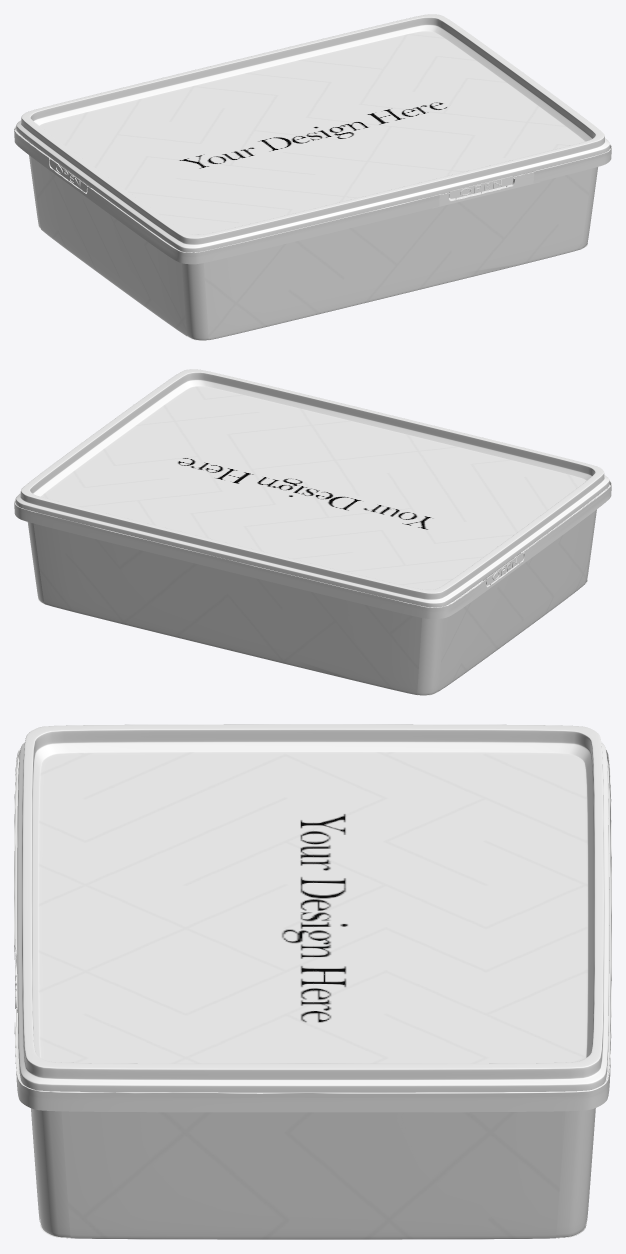
3 views of the same model, one above another, from view 1: azimuth 30°, elevation 25°; view 2: azimuth 150°, elevation 25°; view 3: azimuth 270°, elevation 25° (orthographic). The views are drawn at different scales.
Parts seen in each view (by area): view 1: wrapper.001, lid.001, Plane.001, Bottom.001, Plane.023, Plane.067; view 2: wrapper.001, lid.001, Plane.001, Bottom.001; view 3: wrapper.001, lid.001, Plane.001, Bottom.001.
Boxes of the visible parts, box(x1,y1,x2,y2) form: wrapper.001: box(31, 31, 592, 340); lid.001: box(16, 14, 610, 252); Plane.001: box(14, 126, 611, 264); Bottom.001: box(29, 155, 597, 340); Plane.023: box(432, 171, 539, 208); Plane.067: box(448, 176, 514, 199); wrapper.001: box(33, 386, 594, 695); lid.001: box(15, 369, 609, 607); Plane.001: box(14, 481, 611, 619); Bottom.001: box(27, 509, 596, 695); wrapper.001: box(31, 752, 595, 1239); lid.001: box(17, 724, 609, 1092); Plane.001: box(14, 749, 611, 1112); Bottom.001: box(31, 1108, 594, 1237).
Size of the model in its own units: 0.1839 by 0.0438 by 0.1309.
Materials: 3 (1 with a texture image).
